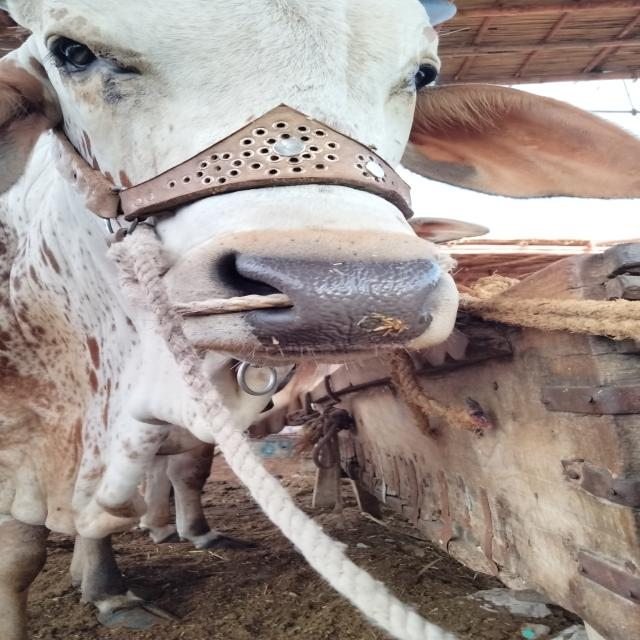muzzles: (187, 236, 471, 354)
